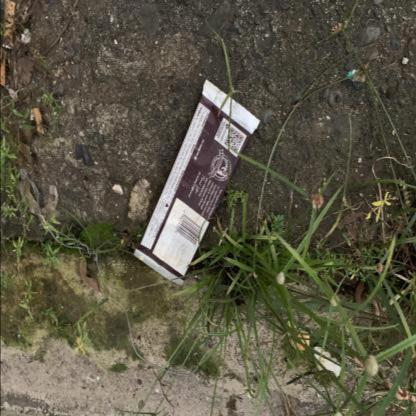Cigarette: (2, 0, 15, 48), (33, 108, 45, 134), (1, 48, 6, 88)
Other litter: (19, 168, 216, 376)
Plastic bag - wrapper: (134, 79, 260, 285), (16, 139, 58, 219), (347, 70, 355, 79)
